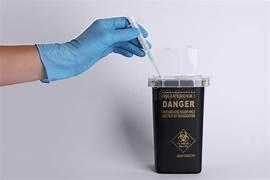Glove: (36, 17, 146, 81)
Syringe: (138, 32, 160, 76)
